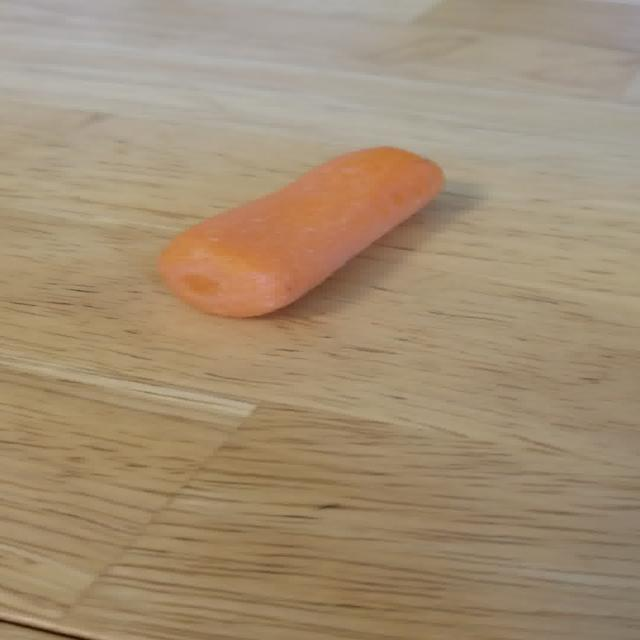carrot: (158, 148, 443, 316)
